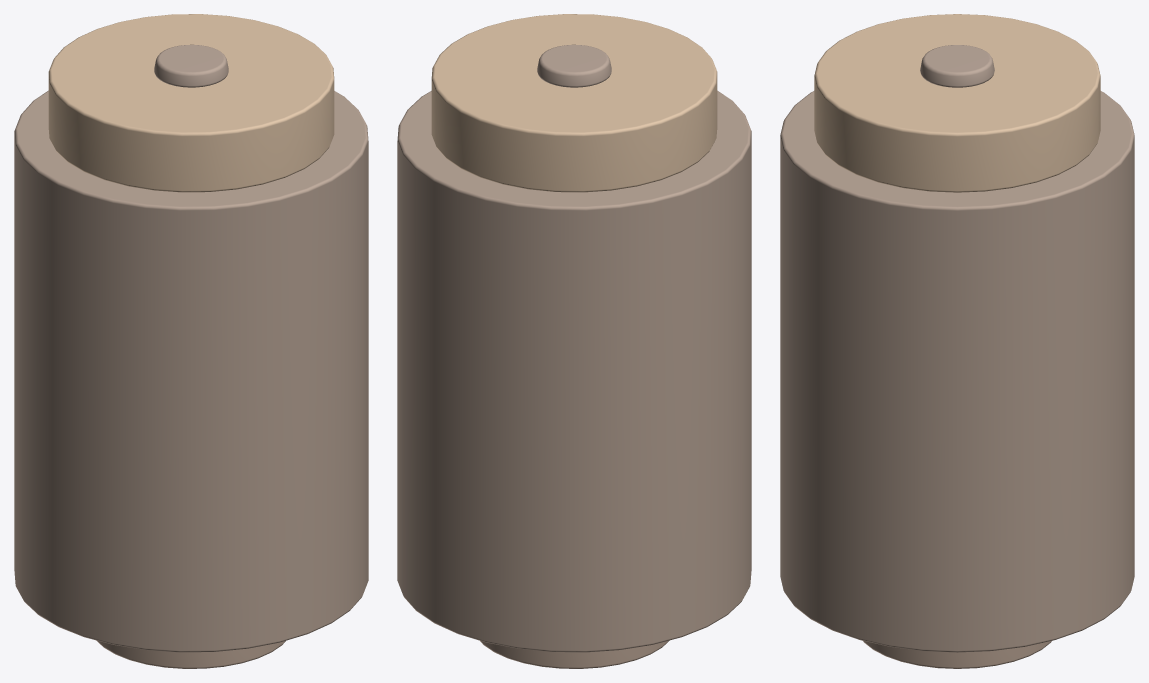
Rendered from accessoire_vase.glb.
The picture shows the model from 3 angles, left to right: view 1: azimuth 30°, elevation 25°; view 2: azimuth 150°, elevation 25°; view 3: azimuth 270°, elevation 25°; orthographic projection.
Parts seen in each view (by area): view 1: Corps_Revolved_Strate_3, Corps_Revolved_Strate_4, Corps_Revolved_Strate_5, Corps_Revolved_Strate_2; view 2: Corps_Revolved_Strate_3, Corps_Revolved_Strate_4, Corps_Revolved_Strate_5, Corps_Revolved_Strate_2; view 3: Corps_Revolved_Strate_3, Corps_Revolved_Strate_4, Corps_Revolved_Strate_5, Corps_Revolved_Strate_2.
Boxes of the visible parts, x1,y1,x2,y2 form: Corps_Revolved_Strate_3: [14, 90, 368, 652]; Corps_Revolved_Strate_4: [48, 14, 334, 192]; Corps_Revolved_Strate_5: [154, 44, 228, 87]; Corps_Revolved_Strate_2: [96, 640, 285, 668]; Corps_Revolved_Strate_3: [397, 90, 751, 652]; Corps_Revolved_Strate_4: [431, 14, 717, 192]; Corps_Revolved_Strate_5: [537, 44, 611, 87]; Corps_Revolved_Strate_2: [480, 640, 669, 668]; Corps_Revolved_Strate_3: [780, 91, 1134, 652]; Corps_Revolved_Strate_4: [814, 14, 1100, 192]; Corps_Revolved_Strate_5: [920, 45, 994, 87]; Corps_Revolved_Strate_2: [863, 641, 1051, 668].
Size of the model in its own units: 0.1112 by 0.2017 by 0.1112.
